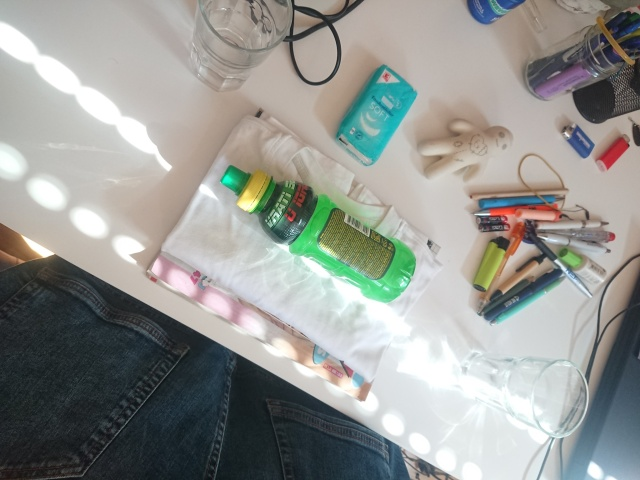Vindi Iso Sport Lemon-Grapefruit 500mL: (217, 162, 419, 306)
